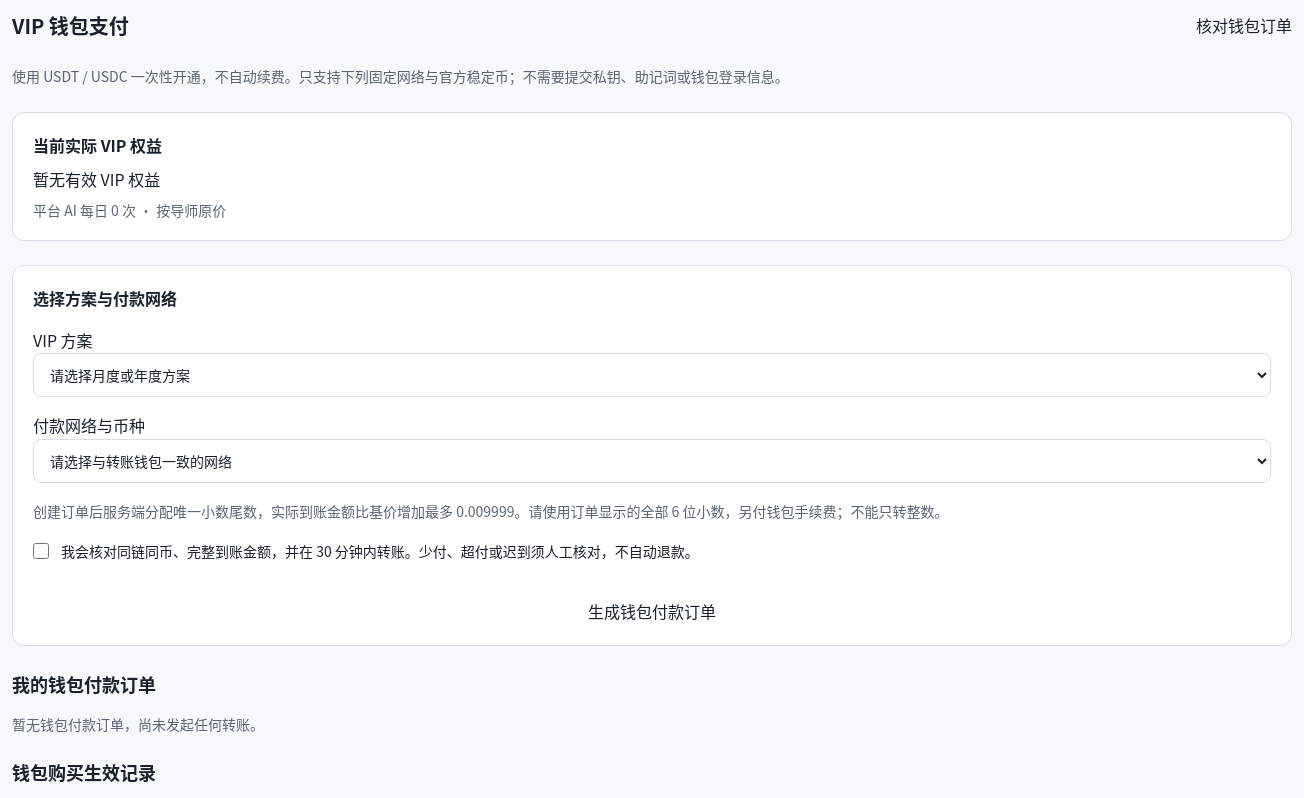
it: MembershipWallet authentic owner checkout and proof recovery › does not create checkout when the displayed quote or route changed
Select "VIP 会员 · 月度 · 基价 52.000000 USDT / USDC" in the dropdown labelled "VIP 方案" at (652, 375), box x1=33 y1=353 x2=1271 y2=397
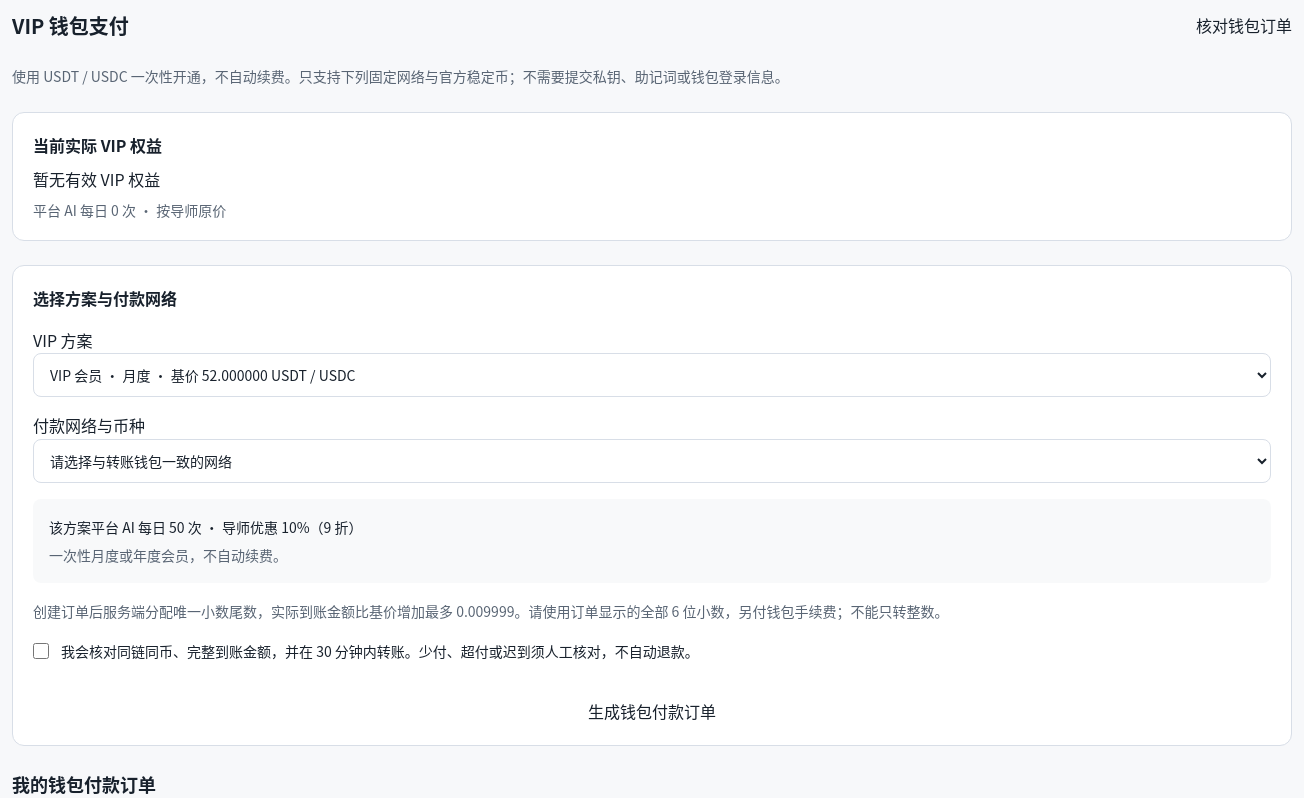
Select "Base · USDC" in the dropdown labelled "付款网络与币种" at (652, 461), box x1=33 y1=439 x2=1271 y2=483
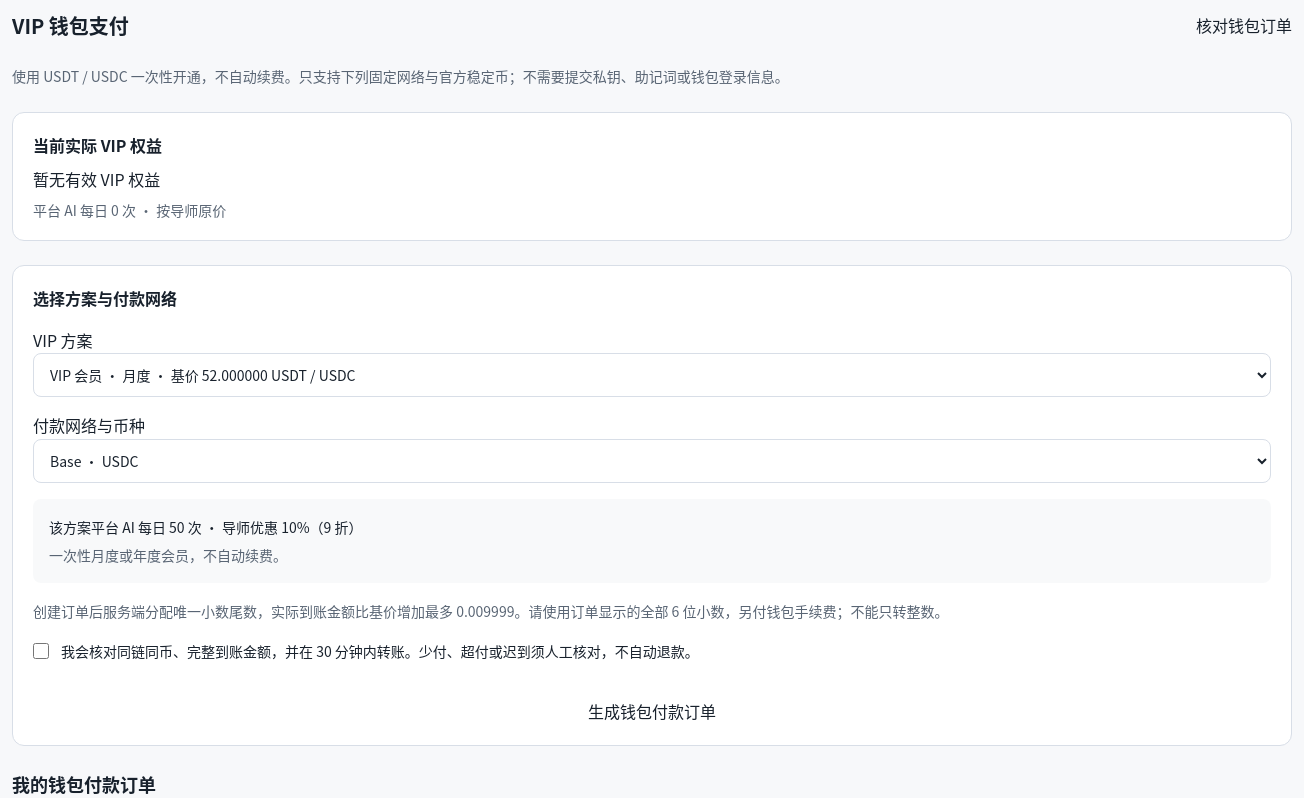
Click the checkbox at (41, 651), box x1=33 y1=643 x2=49 y2=659
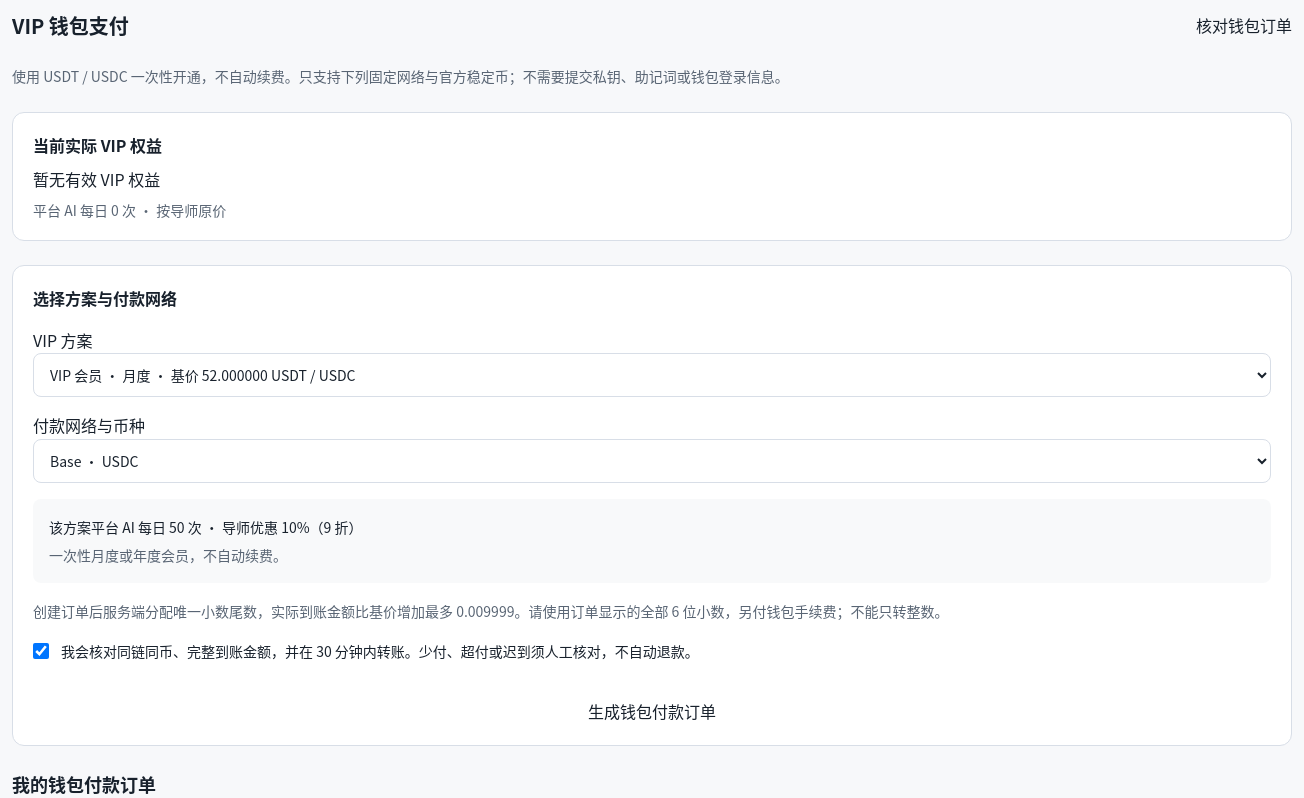
Click the button "生成钱包付款订单" at (652, 712), box x1=33 y1=699 x2=1271 y2=725
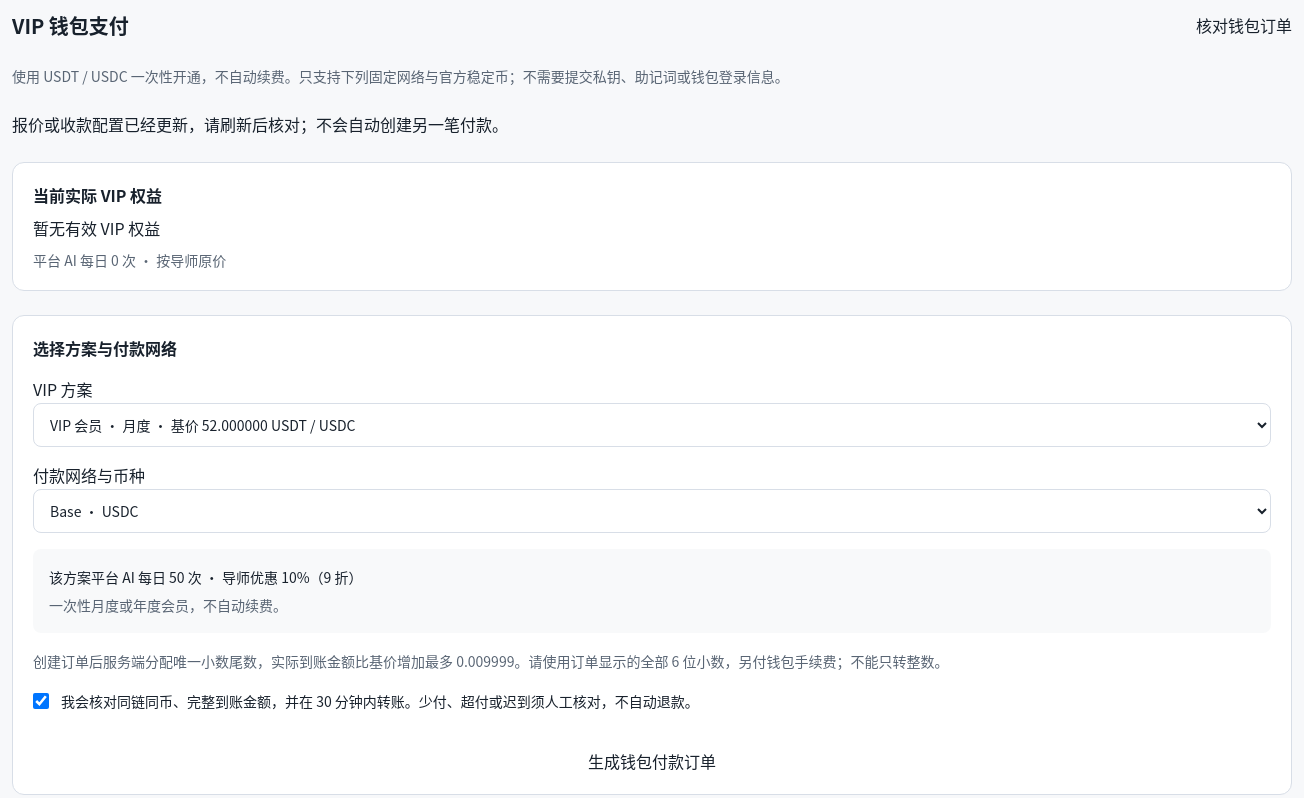
Expected: the text "报价或收款配置已经更新，请刷新后核对；不会自动创建另一笔付款。" is shown, x1=12 y1=112 x2=508 y2=136
